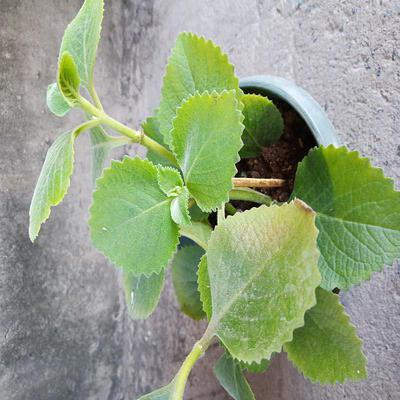Oregano: (46, 80, 388, 371)
